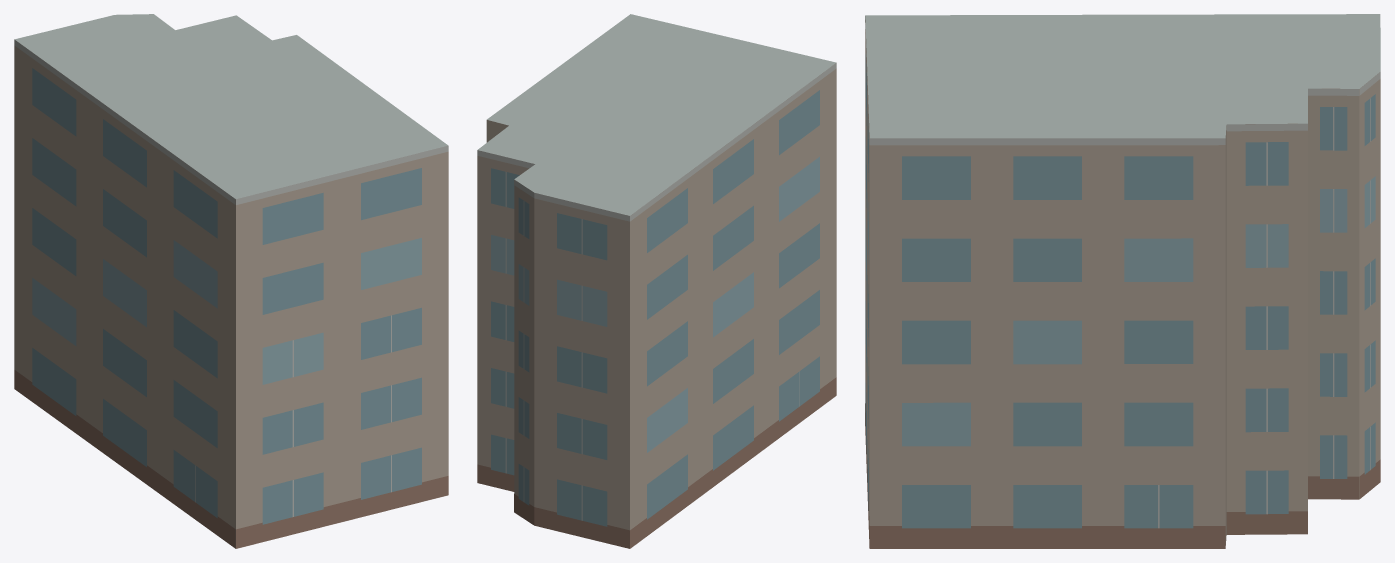
Rendered from survey-upis-32956143.glb.
The picture shows the model from 3 angles, left to right: view 1: azimuth 30°, elevation 25°; view 2: azimuth 150°, elevation 25°; view 3: azimuth 270°, elevation 25°; orthographic projection. The views are drawn at different scales.
Parts seen in each view (by area): view 1: survey-upis-32956143.tmp; view 2: survey-upis-32956143.tmp; view 3: survey-upis-32956143.tmp.
Boxes of the visible parts, x1=… form: survey-upis-32956143.tmp: x1=14, y1=14, x2=448, y2=548; survey-upis-32956143.tmp: x1=477, y1=14, x2=836, y2=548; survey-upis-32956143.tmp: x1=865, y1=14, x2=1380, y2=548.
Bounding box in the file's own units: 9.29 × 14.3 × 16.28.
